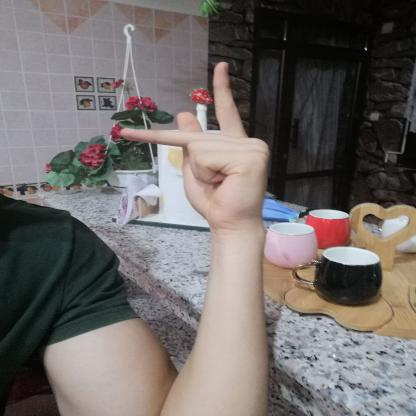DHAA: (109, 51, 287, 235)
